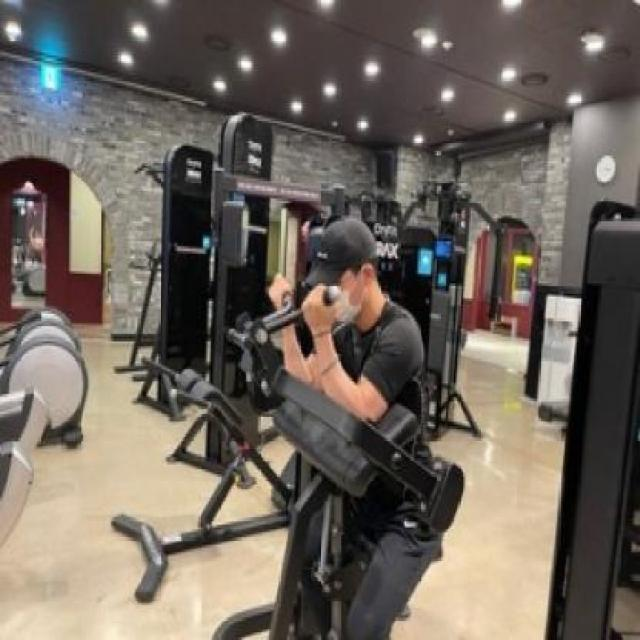arm curl machine: (229, 271, 468, 640)
